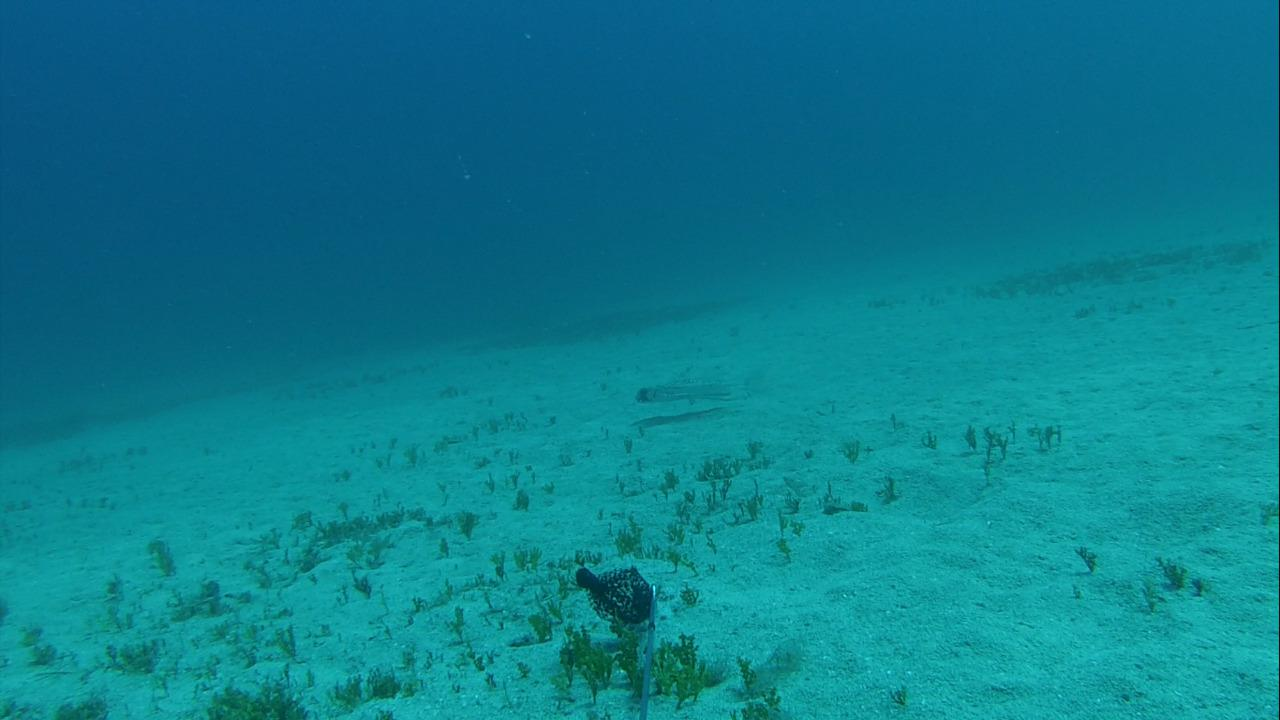dactylopterus: (623, 361, 767, 416)
